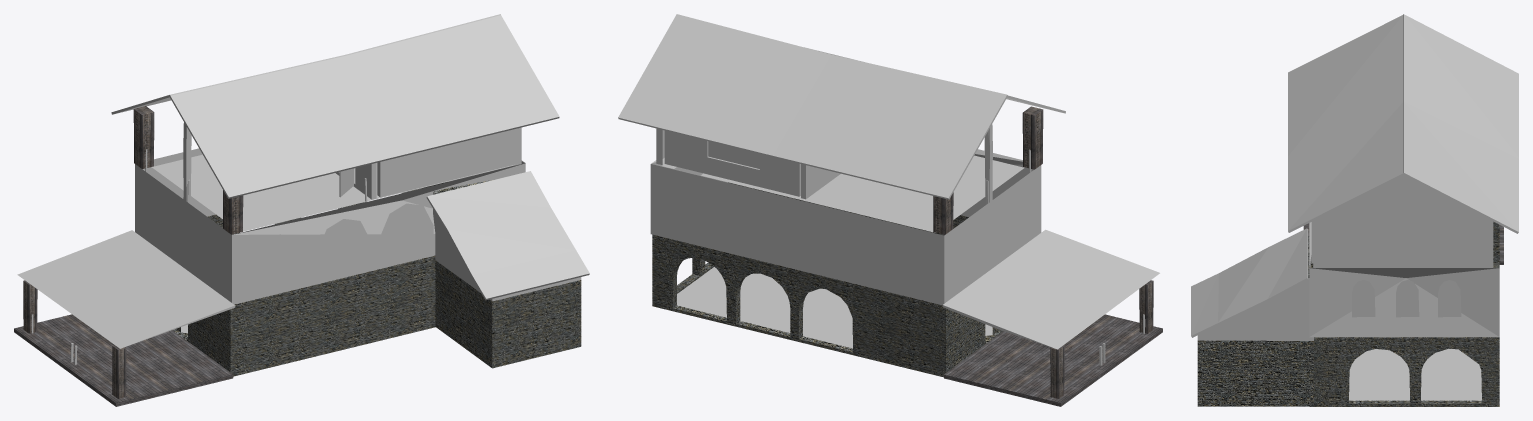
File: tavern_main_LOD2.dae
3 views of the same model, side by side, from view 1: azimuth 30°, elevation 25°; view 2: azimuth 150°, elevation 25°; view 3: azimuth 270°, elevation 25° (orthographic).
Parts seen in each view (by area): view 1: Default_Layer; view 2: Default_Layer; view 3: Default_Layer.
Boxes of the visible parts, <box> form: Default_Layer: <box>14,14,589,406</box>; Default_Layer: <box>618,14,1162,406</box>; Default_Layer: <box>1191,14,1518,406</box>.
Size of the model in its own units: 33.91 by 18.75 by 22.5.
